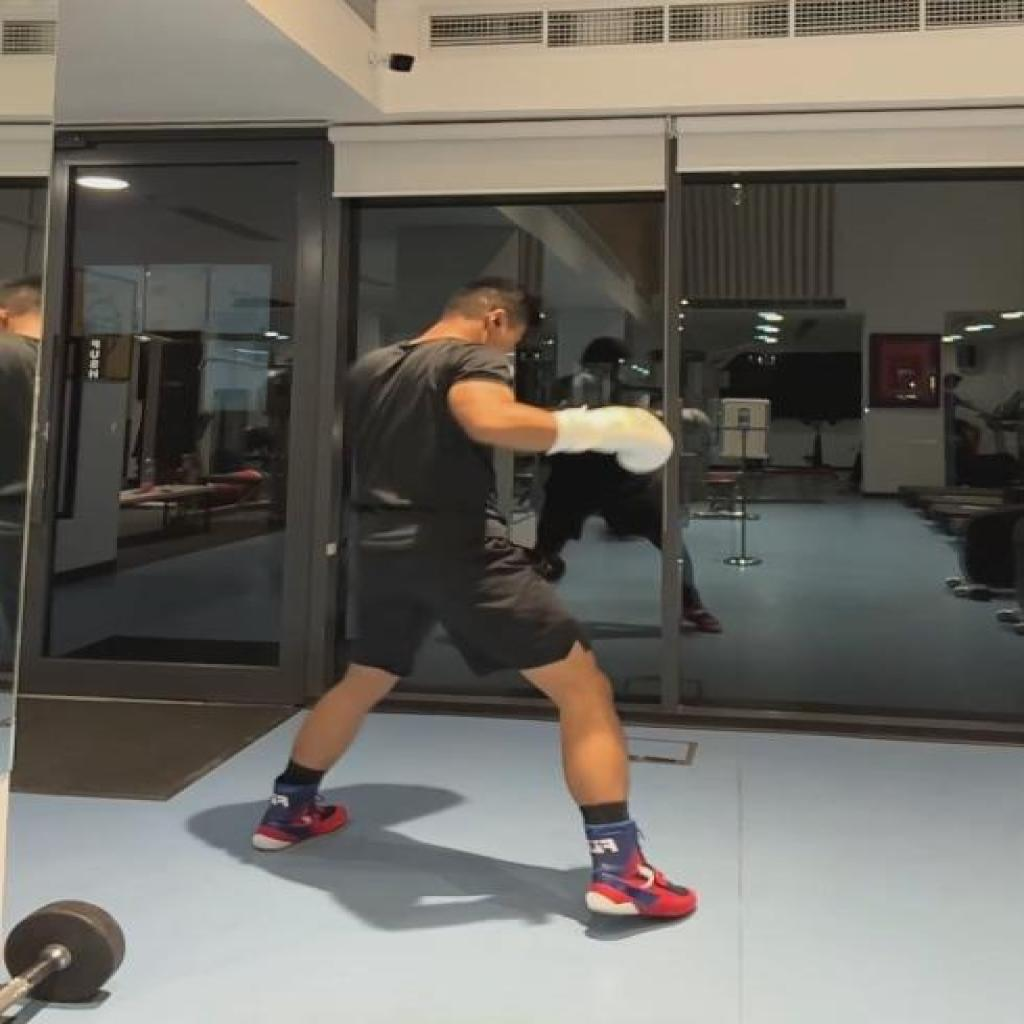hook: (251, 274, 704, 928)
